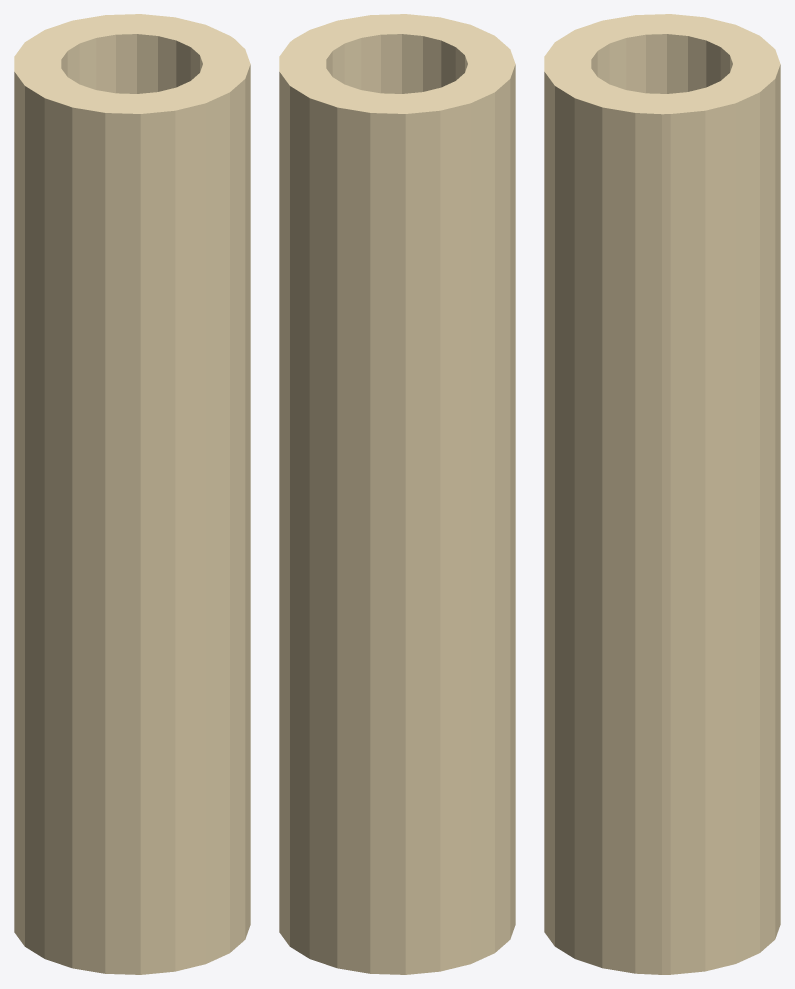
The model's file is fuel_tank_spout.glb.
3 views of the same model, side by side, from view 1: azimuth 30°, elevation 25°; view 2: azimuth 150°, elevation 25°; view 3: azimuth 270°, elevation 25° (orthographic).
Visible parts, largest first — view 1: Node1; view 2: Node1; view 3: Node1.
Boxes of the visible parts, box(x1,y1,x2,y2) form: Node1: box(14, 14, 250, 974); Node1: box(279, 14, 515, 974); Node1: box(544, 14, 780, 974).
Size of the model in its own units: 4.99 by 20 by 4.97.
